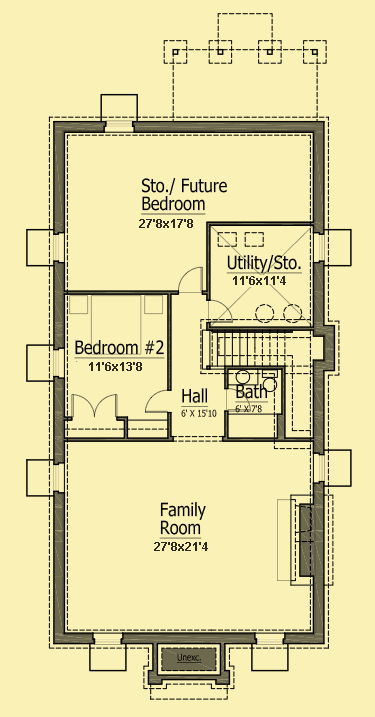door: (67, 388, 120, 422), (203, 295, 241, 326), (177, 260, 205, 294), (143, 389, 177, 416)
large sink: (260, 369, 285, 395)
small sink: (227, 366, 259, 389)
stairs: (204, 328, 324, 372)
windows: (45, 229, 73, 269), (300, 447, 328, 484), (44, 455, 71, 493), (97, 118, 142, 140), (85, 624, 127, 647), (305, 225, 327, 265), (52, 339, 70, 382), (251, 627, 289, 645)
